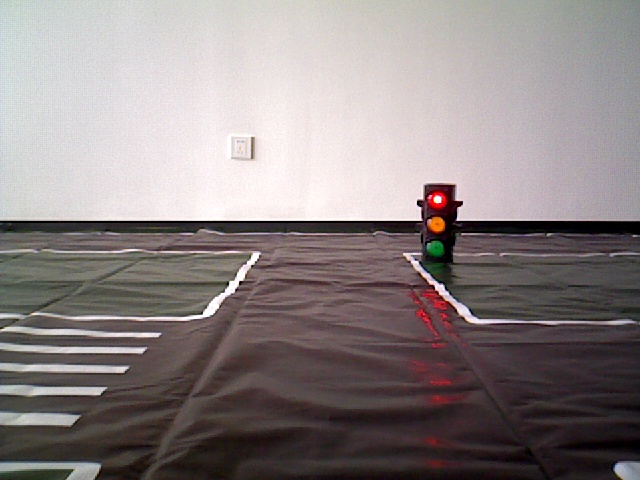red: (424, 185, 449, 260)
